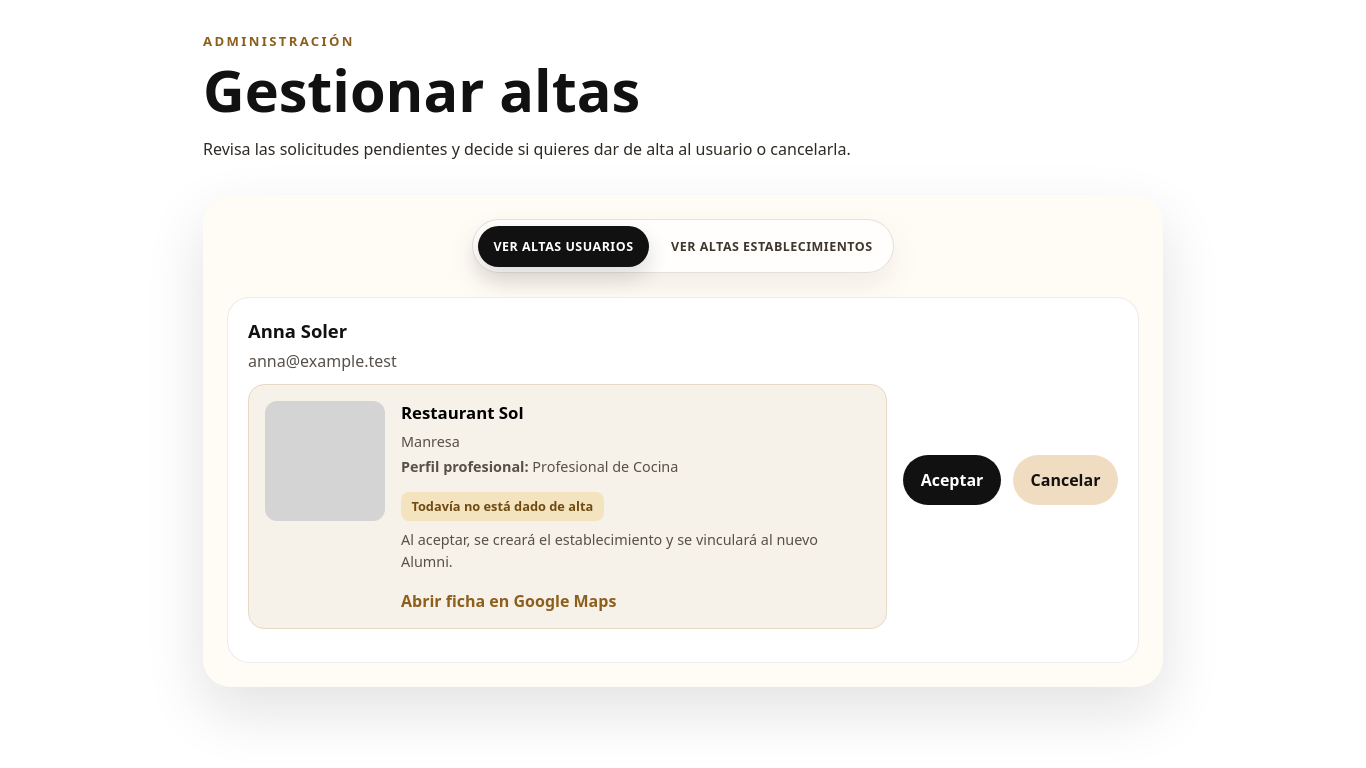
Test case: keeps the creation summary when sending the access email fails
expect the heading "Anna Soler" is shown: met, box [248,318,347,343]
Step 1. Click the button "Aceptar" → coordinates (952, 480), box [903,455,1001,505]
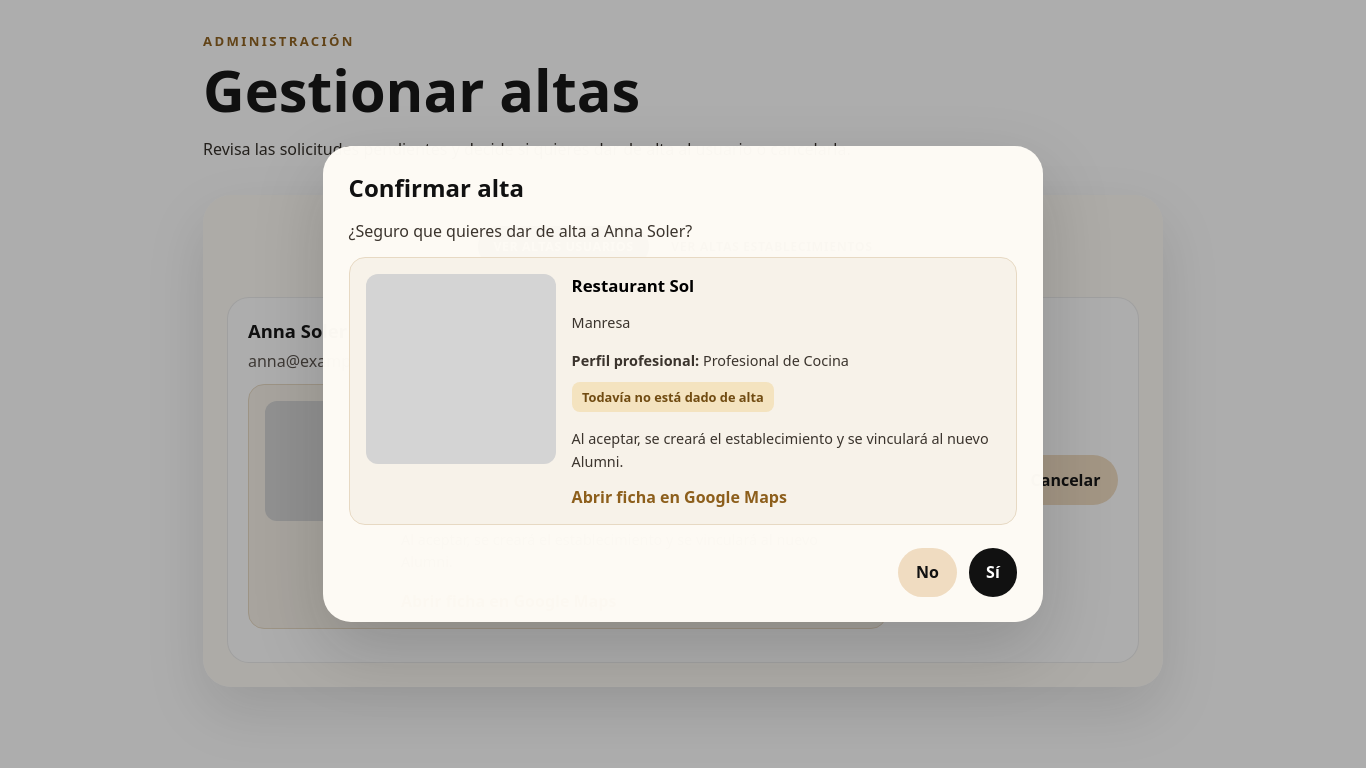
Step 2. Click the button "Sí" → coordinates (993, 572), box [968,548,1017,597]
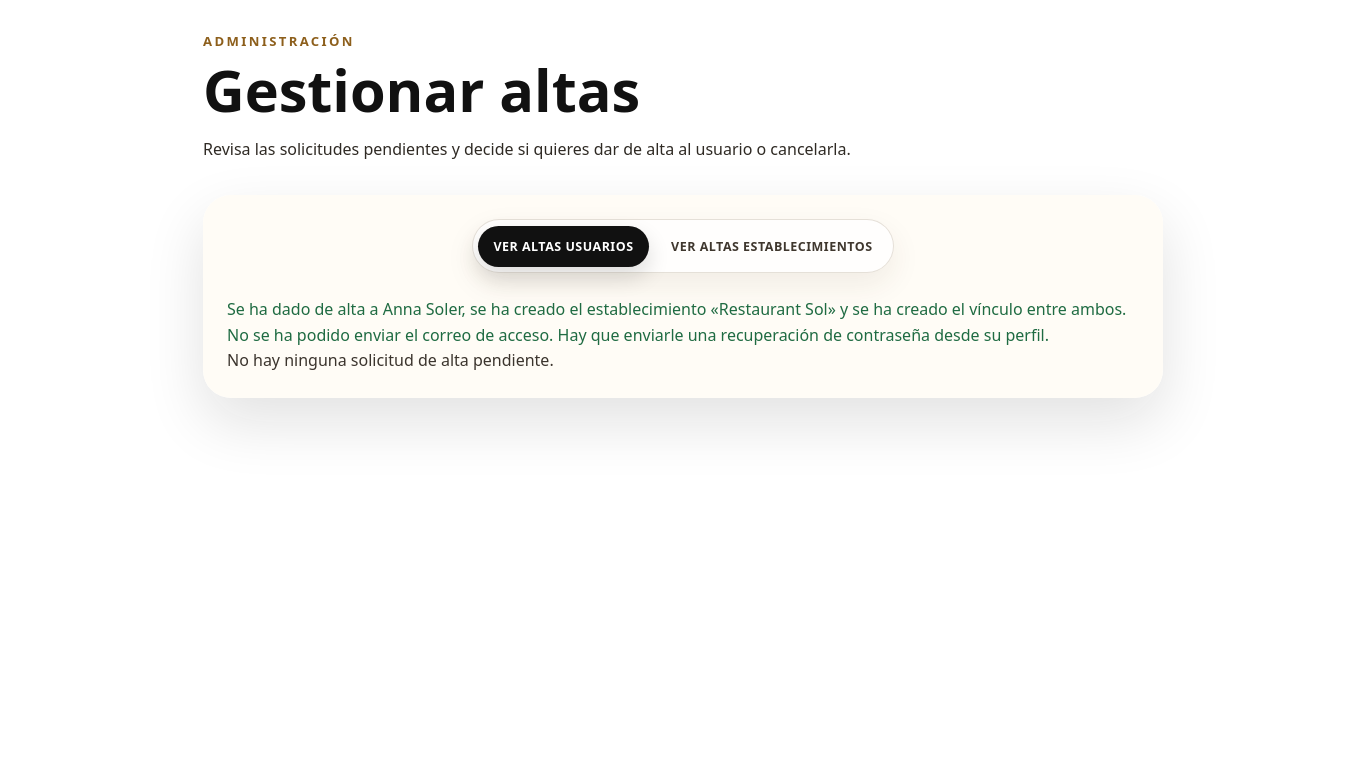
expect the dialog is gone: met
expect the message shows "se ha creado el establecimiento": met, box [227,298,1126,346]
expect the message shows "se ha creado el vínculo": met, box [227,298,1126,346]
